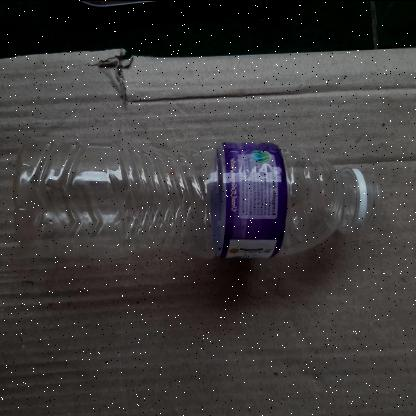Plastic Bottle: (13, 136, 383, 258)
